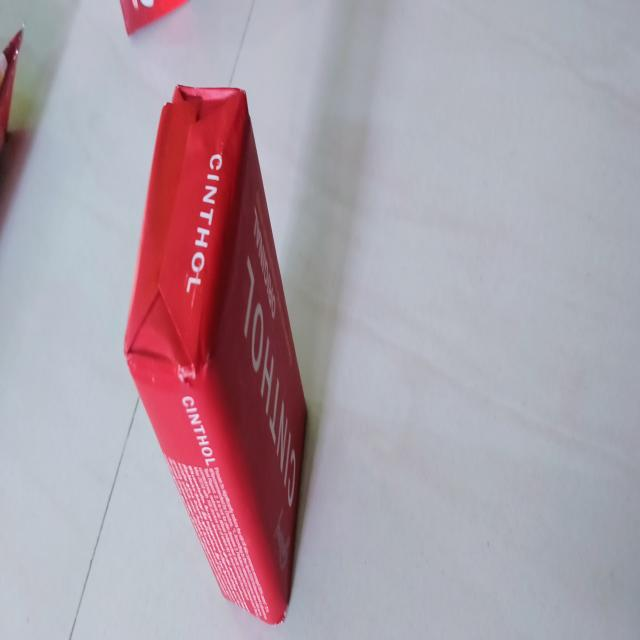soap: (119, 68, 307, 625)
